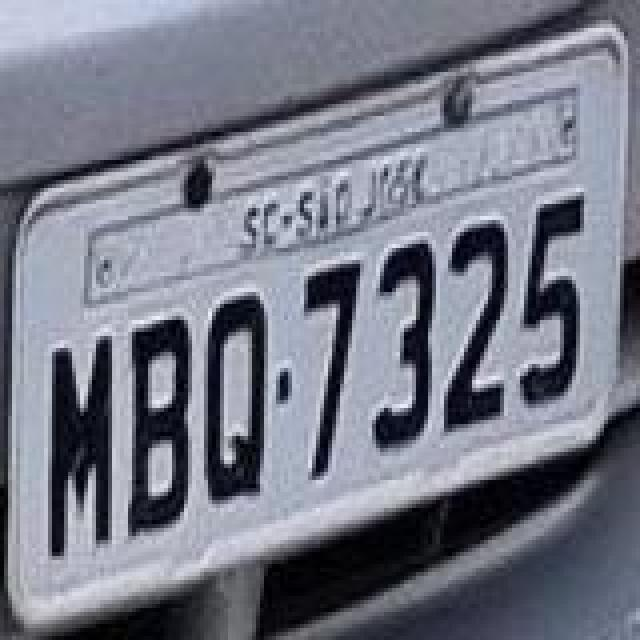2: (440, 220, 512, 436)
3: (368, 232, 440, 456)
5: (516, 186, 588, 406)
7: (304, 252, 368, 484)
B: (126, 308, 194, 540)
M: (46, 330, 114, 566)
Q: (200, 290, 272, 510)
